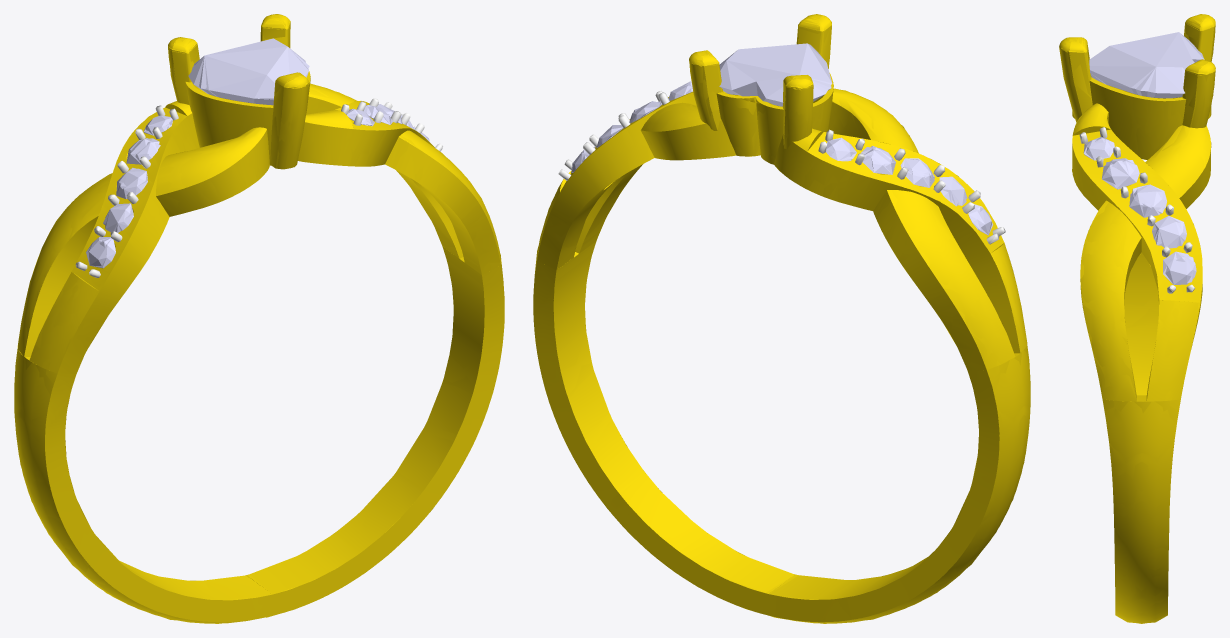
The model's file is DLR-D000679393.glb.
3 renders of one model, left to right at view 1: azimuth 30°, elevation 25°; view 2: azimuth 150°, elevation 25°; view 3: azimuth 270°, elevation 25°, orthographic. The views are drawn at different scales.
Parts seen in each view (by area): view 1: highPolyMesh, lowPolyMesh; view 2: highPolyMesh, lowPolyMesh; view 3: highPolyMesh, lowPolyMesh.
Part boxes in pixels (box(x1,y1,x2,y2)): highPolyMesh: box(14, 14, 504, 623); lowPolyMesh: box(14, 14, 504, 623); highPolyMesh: box(533, 14, 1030, 623); lowPolyMesh: box(533, 14, 1030, 623); highPolyMesh: box(1059, 14, 1215, 623); lowPolyMesh: box(1059, 14, 1215, 622).
Size of the model in its own units: 0.0188 by 0.0212 by 0.00539.
